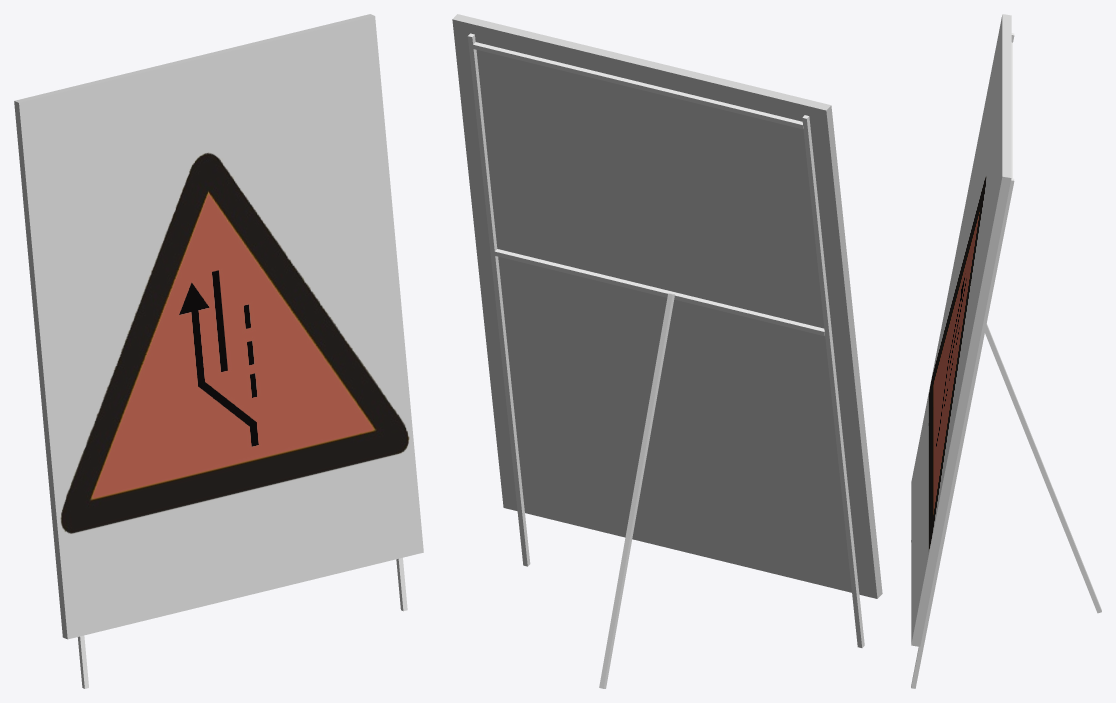
Rendered from 变换车道-B.glb.
3 renders of one model, left to right at view 1: azimuth 30°, elevation 25°; view 2: azimuth 150°, elevation 25°; view 3: azimuth 270°, elevation 25°, orthographic. The views are drawn at different scales.
Parts seen in each view (by area): view 1: 立方体-材质.3, 立方体-材质.5; view 2: 立方体-材质.5, 立方体.4, 立方体.3, 立方体.7, 立方体.5, 立方体.6; view 3: 立方体-材质.3, 立方体-材质.5, 立方体.3, 立方体.7.
Boxes of the visible parts, <box> form: 立方体-材质.3: <box>19,16,423,639</box>; 立方体-材质.5: <box>14,14,374,639</box>; 立方体-材质.5: <box>452,14,882,598</box>; 立方体.4: <box>802,115,864,647</box>; 立方体.3: <box>468,33,530,566</box>; 立方体.7: <box>599,293,674,688</box>; 立方体.5: <box>469,42,803,129</box>; 立方体.6: <box>491,249,824,336</box>; 立方体-材质.3: <box>911,15,1002,643</box>; 立方体-材质.5: <box>911,14,1011,646</box>; 立方体.3: <box>911,178,1014,688</box>; 立方体.7: <box>985,323,1101,613</box>.
Bounding box in the file's own units: 5.71 × 8.56 × 2.83.
Materials: 3 (1 with a texture image).
